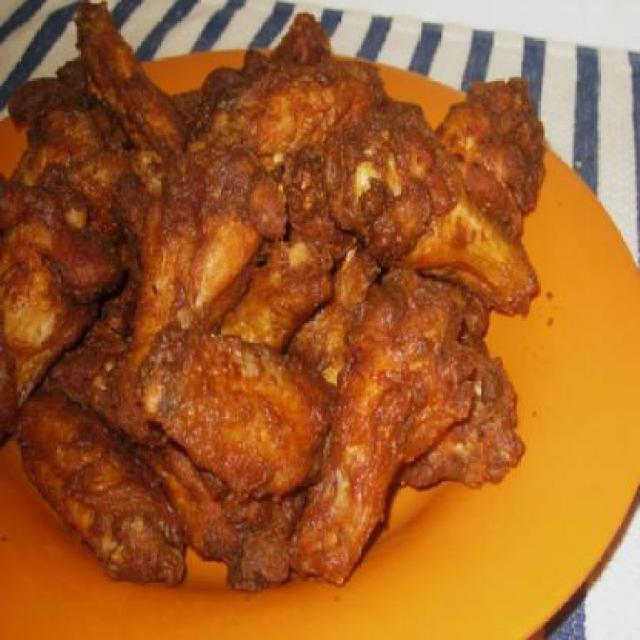Deep fried chicken wing: (13, 48, 561, 554)
